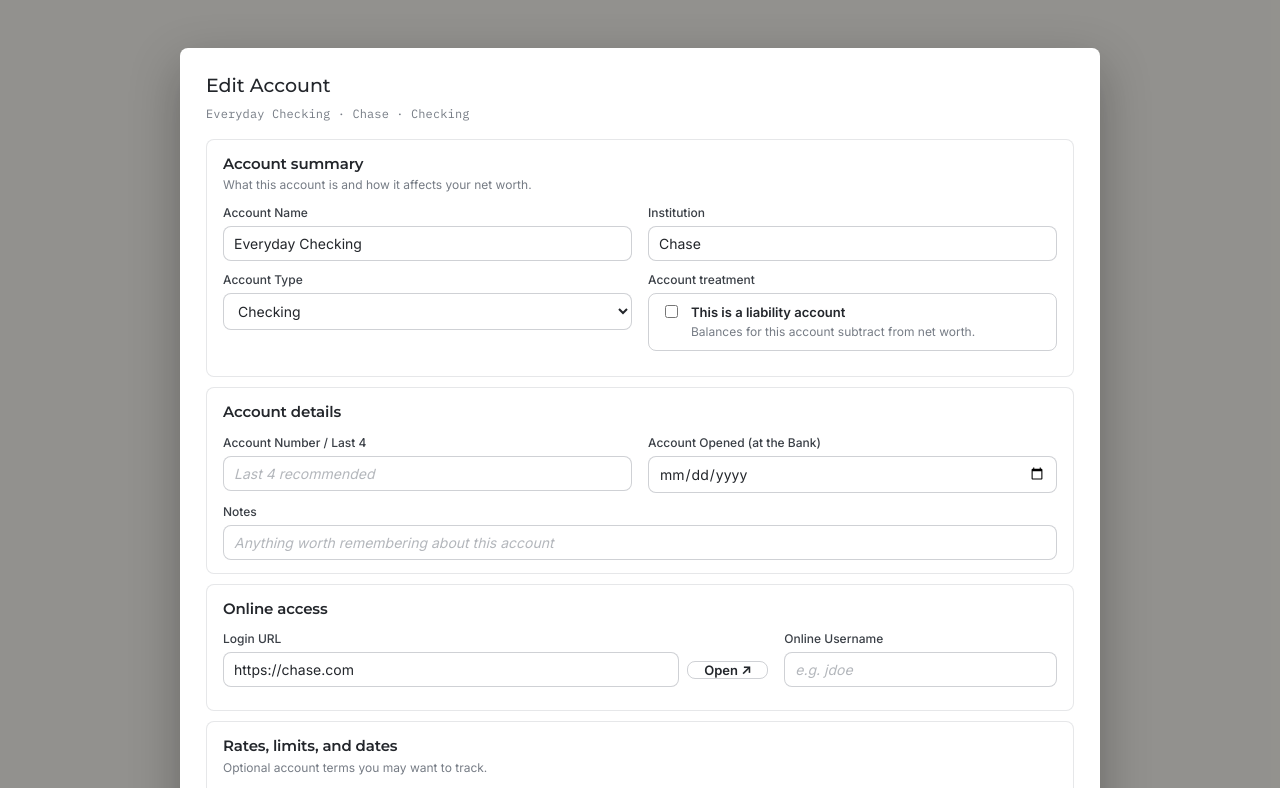
Test: AccountEditor › validates a required name
This screenshot has width=1280, height=788.
Expected: the heading "Edit Account" is shown, [206,74,331,97]
Clear the field with placeholder "Everyday Checking" at point(428, 243), box [223,226,632,261]
(page scrolled)
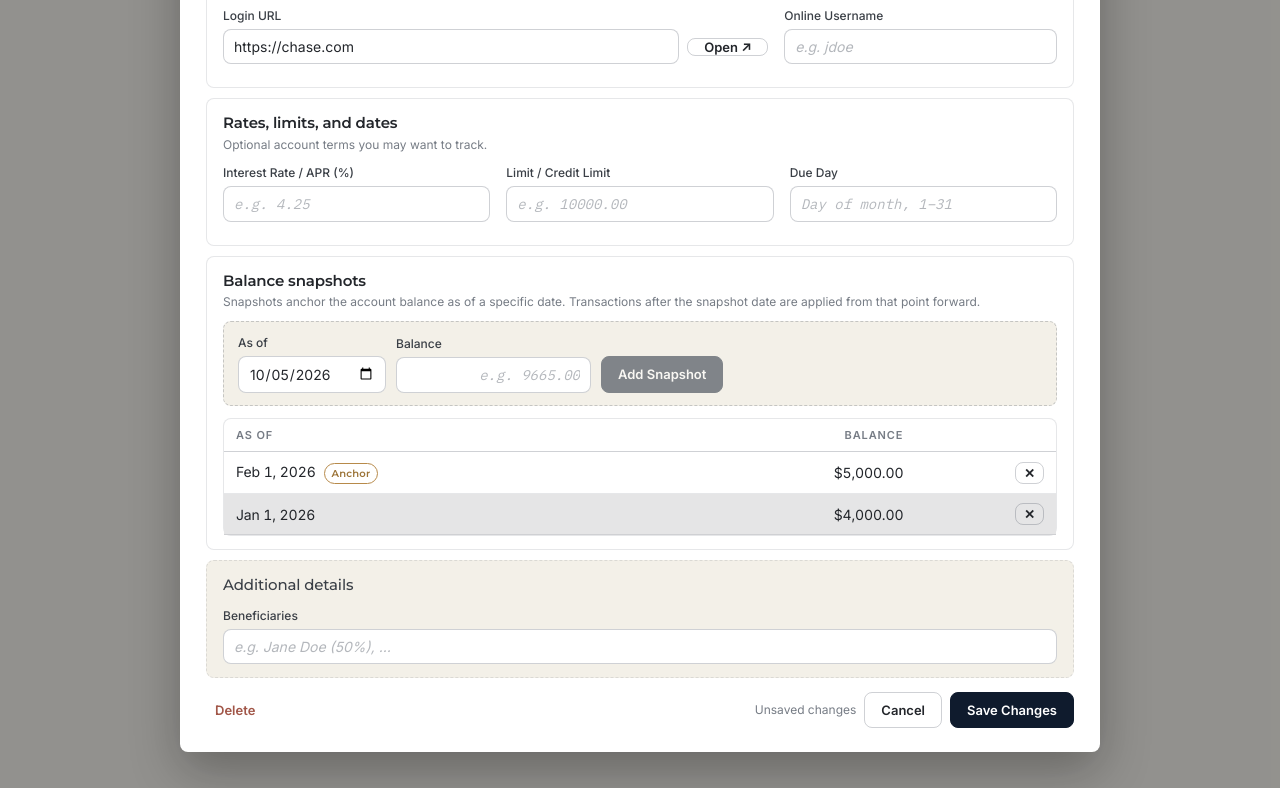
Click the button "Save Changes" at point(1012, 710), box [950,692,1074,728]
(page scrolled)
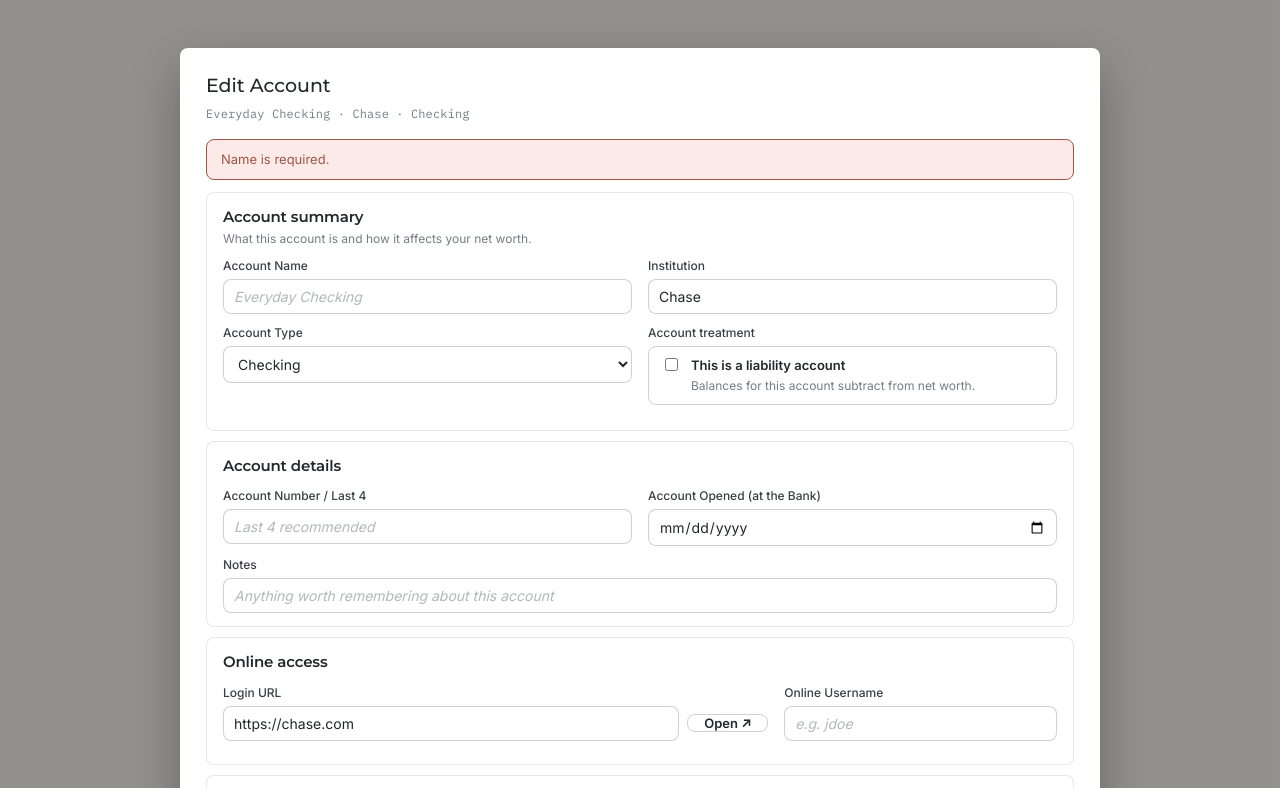
Now the text "Name is required." is shown, box [206,138,1074,180]
